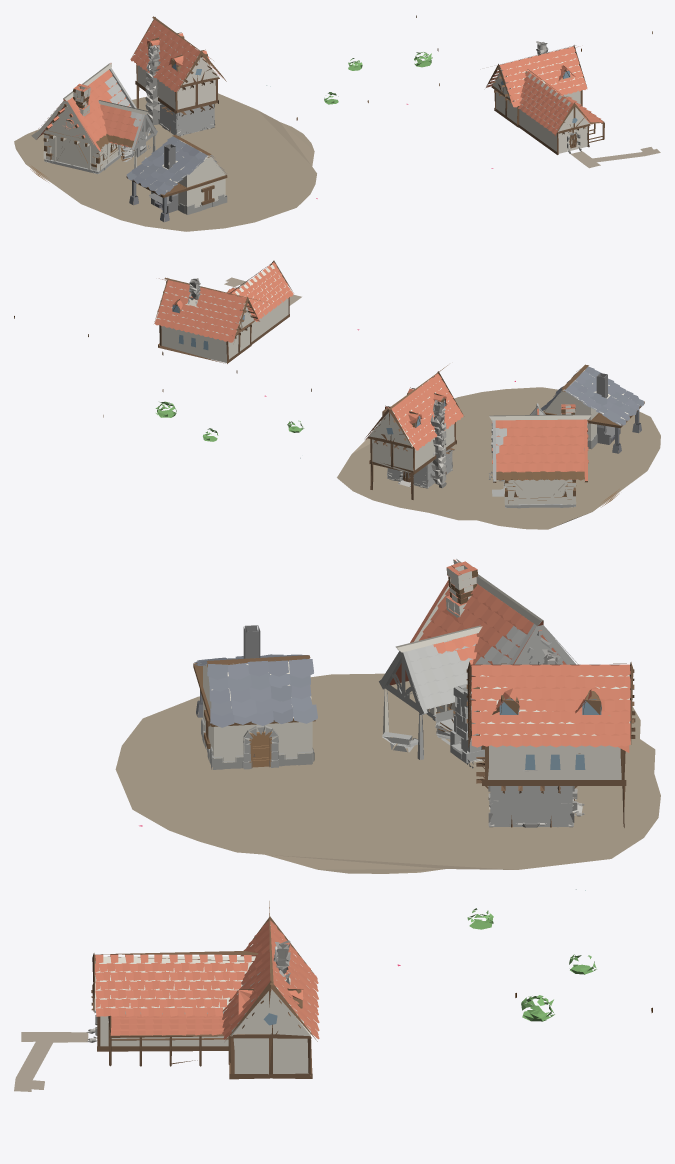
File: chunk_0_1_lod1.glb
The picture shows the model from 3 angles, top to bottom: view 1: azimuth 30°, elevation 25°; view 2: azimuth 150°, elevation 25°; view 3: azimuth 270°, elevation 25°; orthographic projection. The views are drawn at different scales.
Visible parts, largest first — view 1: Batched_Chunk_0_1.001; view 2: Batched_Chunk_0_1.001; view 3: Batched_Chunk_0_1.001.
Boxes of the visible parts, x1,y1,x2,y2 form: Batched_Chunk_0_1.001: (14, 15, 660, 231); Batched_Chunk_0_1.001: (14, 260, 660, 529); Batched_Chunk_0_1.001: (14, 559, 660, 1091).
Size of the model in its own units: 99.14 by 14.2 by 53.85.
